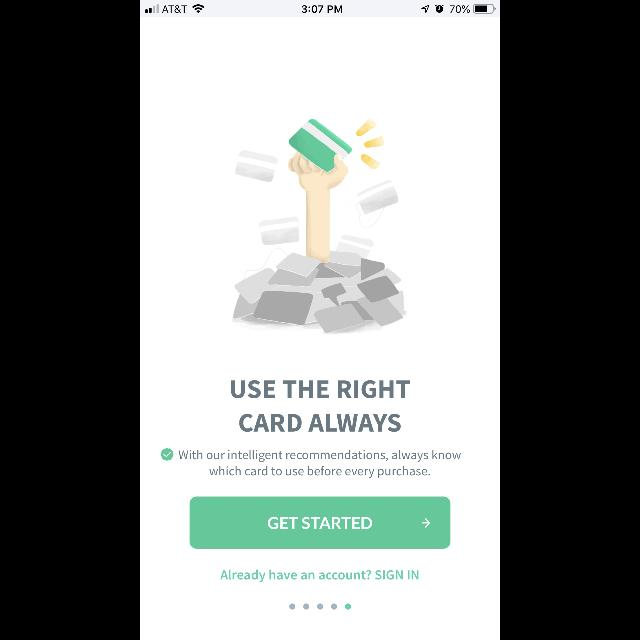icon: (160, 448, 173, 460), (422, 518, 430, 528)
image: (232, 119, 408, 335)
pageindicator: (289, 604, 351, 610)
text: (232, 380, 410, 432), (179, 450, 461, 478), (221, 570, 419, 582)
textbutton: (190, 497, 450, 549)
uppertaskbar: (140, 1, 500, 18)
